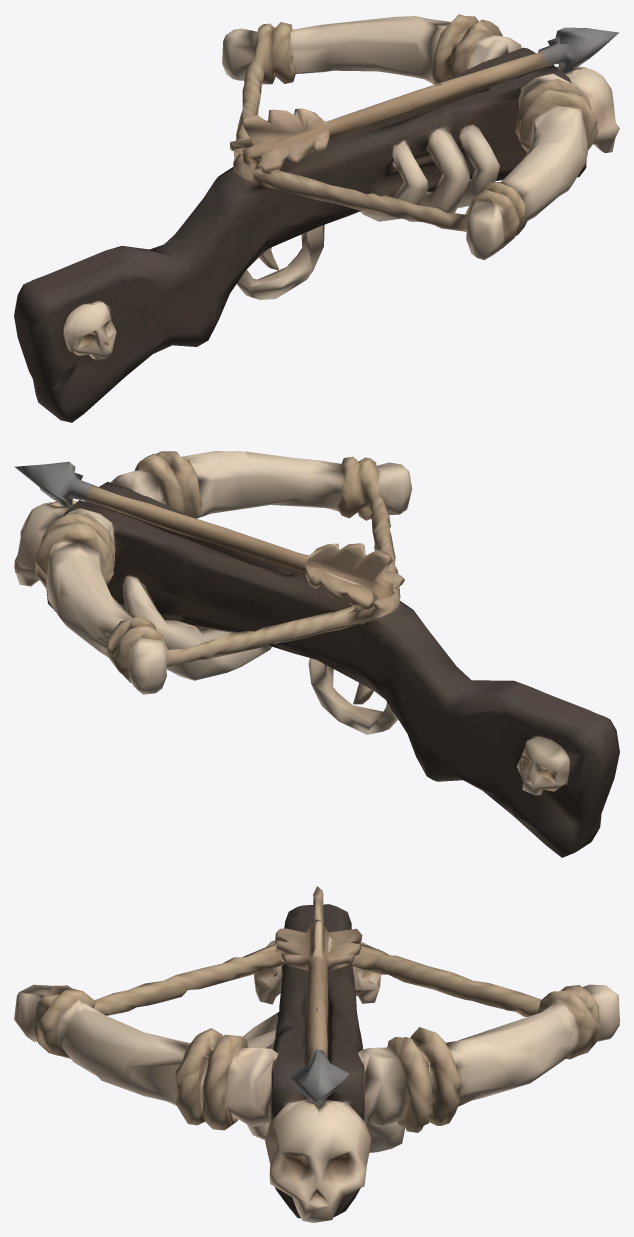
The model's file is BoneArcher_Crossbow-C9L-eDSg.glb.
3 views of the same model, one above another, from view 1: azimuth 30°, elevation 25°; view 2: azimuth 150°, elevation 25°; view 3: azimuth 270°, elevation 25° (orthographic). The views are drawn at different scales.
Parts seen in each view (by area): view 1: tripo_node_999ec815-1e40-4f97-ba54-c663970afadc; view 2: tripo_node_999ec815-1e40-4f97-ba54-c663970afadc; view 3: tripo_node_999ec815-1e40-4f97-ba54-c663970afadc.
Boxes of the visible parts, x1,y1,x2,y2 form: tripo_node_999ec815-1e40-4f97-ba54-c663970afadc: [14, 14, 619, 422]; tripo_node_999ec815-1e40-4f97-ba54-c663970afadc: [14, 451, 619, 857]; tripo_node_999ec815-1e40-4f97-ba54-c663970afadc: [14, 886, 619, 1222].
Size of the model in its own units: 1.38 by 0.5826 by 1.06.
1 material, 1 textured.
